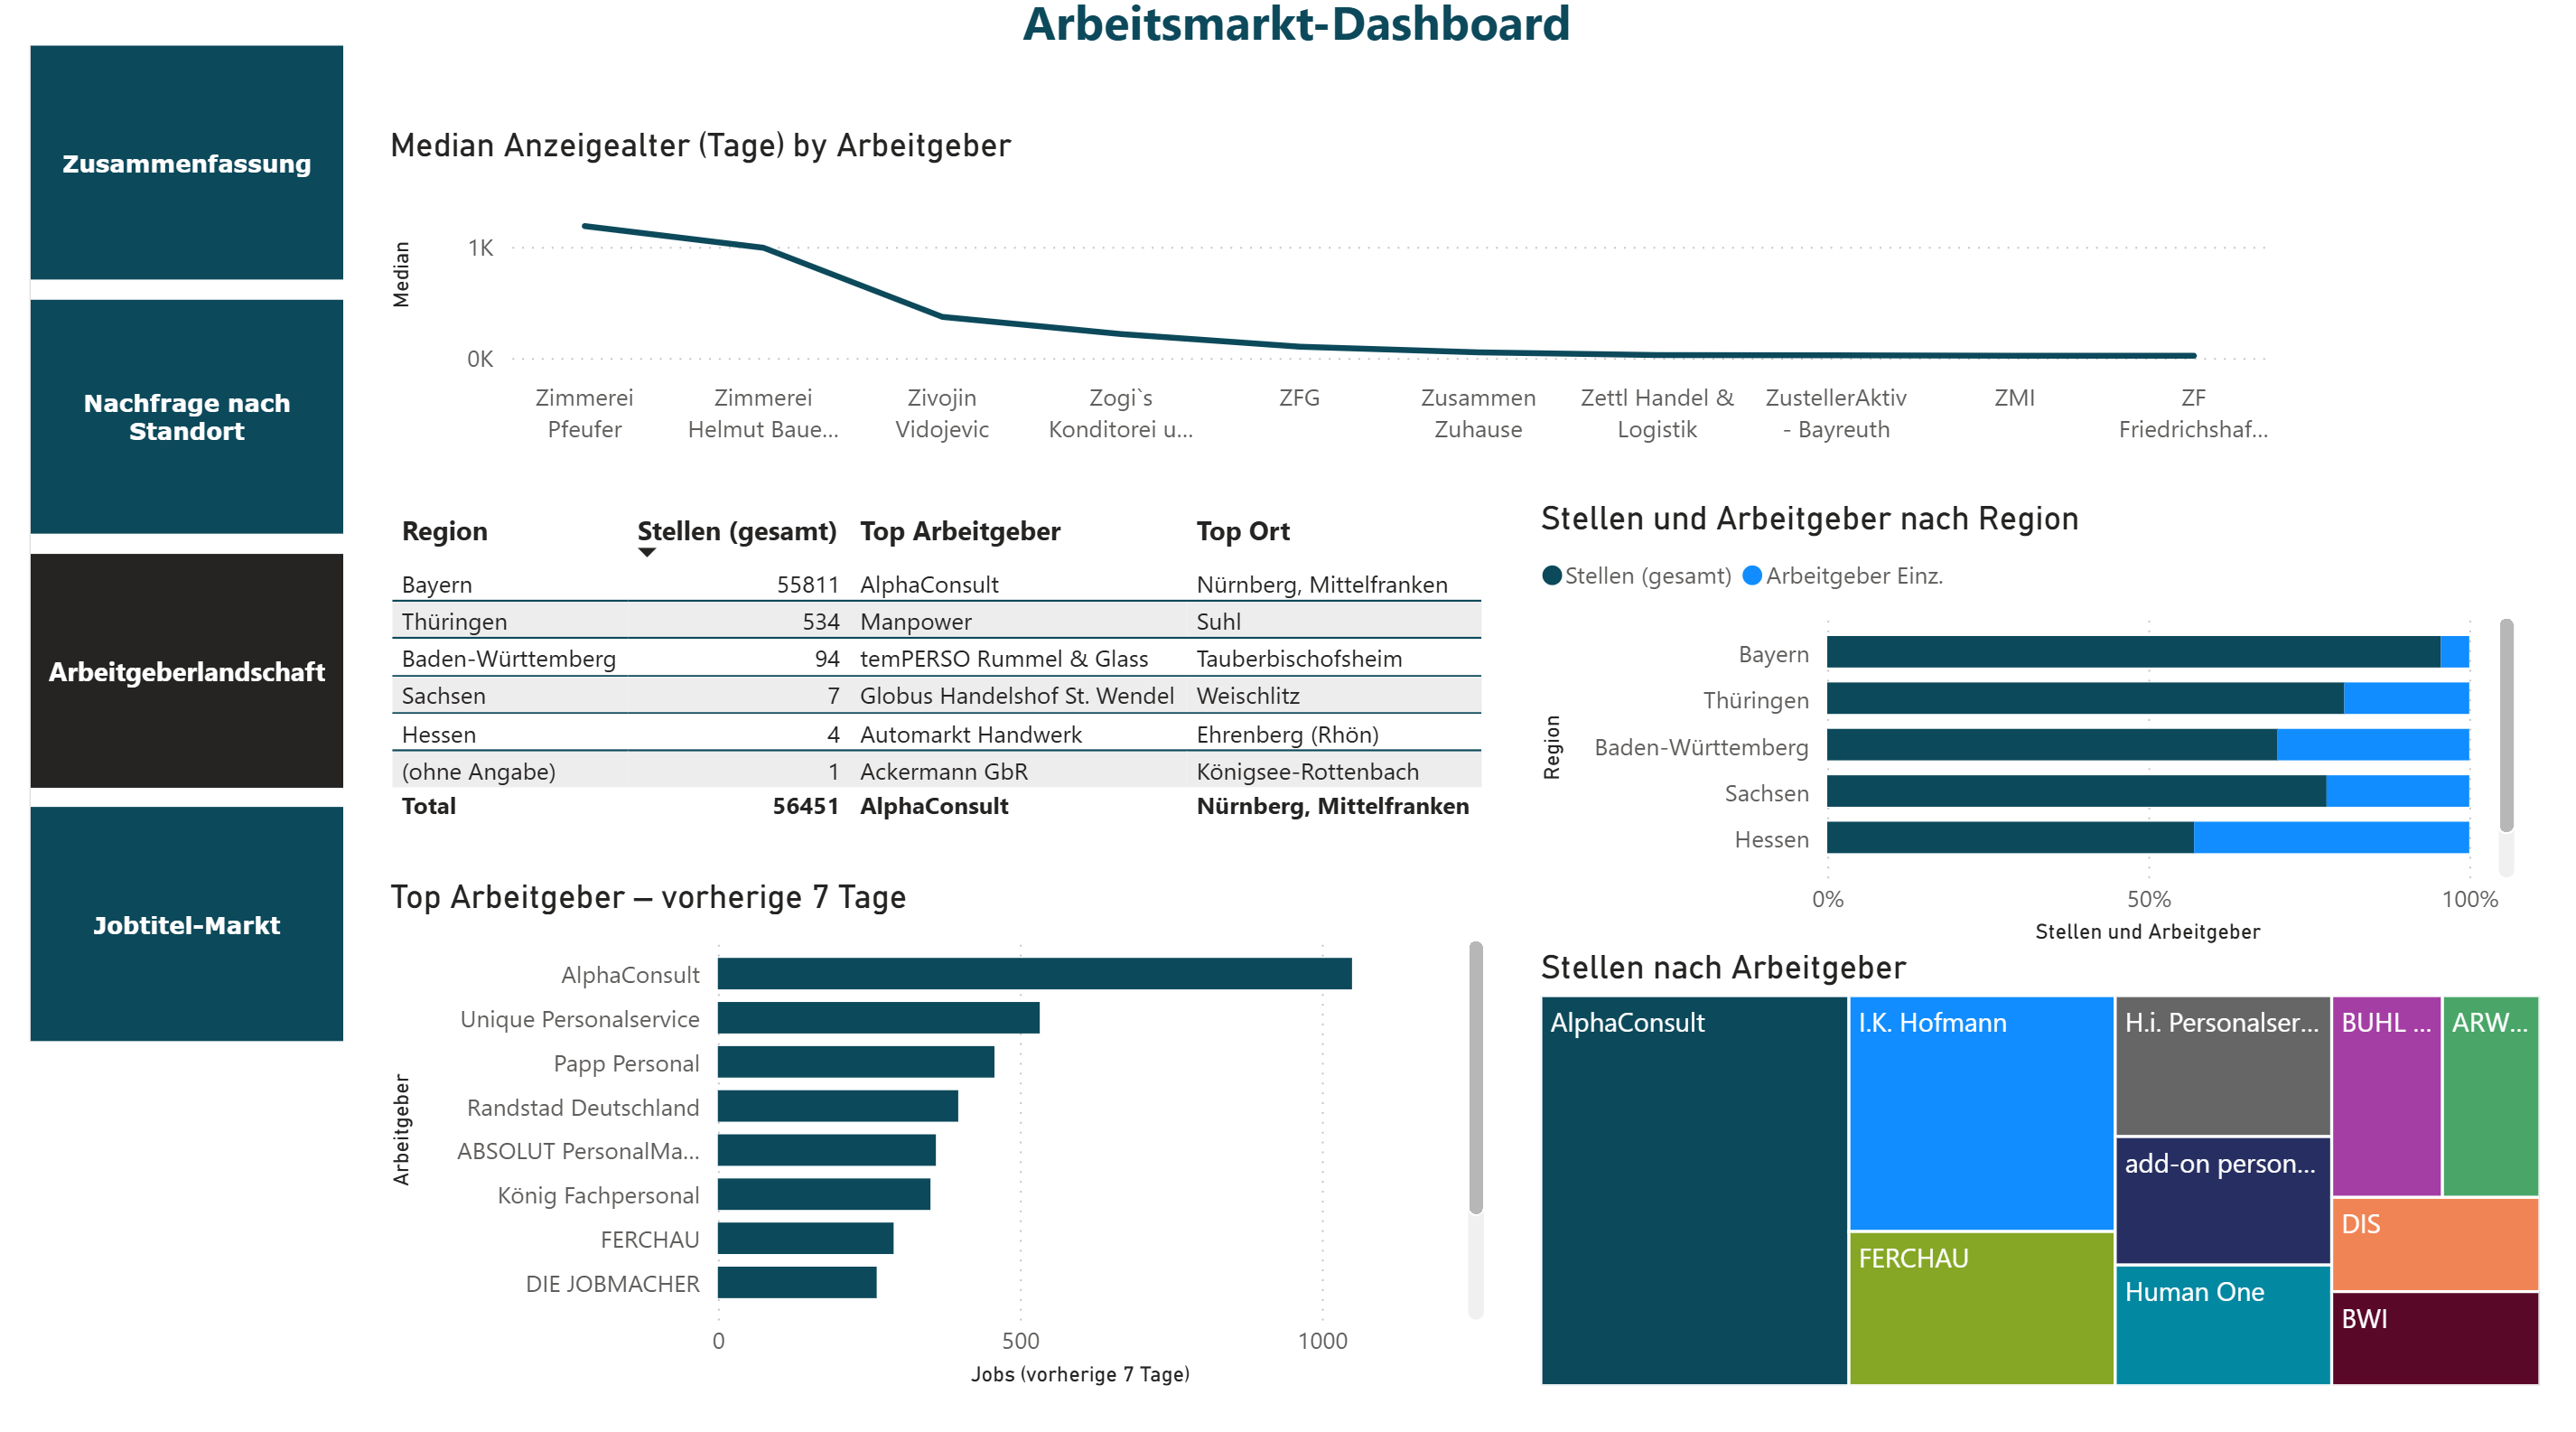

The dashboard page shown, as its layout file describes it:
{"tool":"powerbi","page":{"name":"Arbeitgeberlandschaft","canvas":[1280,720],"ordinal":2},"visuals":[{"type":"pageNavigator","box":[0,33.7,159.9,506.2],"z":0},{"type":"textbox","box":[418.2,0,451.8,41.8],"z":1000},{"type":"treemap","title":"Stellen nach Arbeitgeber","fields":{"Group":["bamberg_jobs_enriched.Arbeitgeber"],"Values":["Date.Stellen (gesamt)"]},"box":[762.1,492.9,517.8,227.1],"z":2000},{"type":"clusteredBarChart","title":"Top Arbeitgeber – vorherige 7 Tage","fields":{"Category":["bamberg_jobs_enriched.Arbeitgeber"],"Y":["Date.Jobs letzte 7 Tage (Prev)"]},"box":[177.2,456.7,566,263.2],"z":3000},{"type":"lineChart","fields":{"Y":["Date.Median Anzeigealter (Tage)"],"Category":["bamberg_jobs_enriched.Arbeitgeber"]},"box":[177.2,74.8,970.2,168.6],"z":4000},{"type":"hundredPercentStackedBarChart","title":"Stellen und Arbeitgeber nach Region","fields":{"Y":["Date.Stellen (gesamt)","bamberg_jobs_enriched.Arbeitgeber Einz."],"Category":["bamberg_jobs_enriched.Region"]},"box":[762.1,264.1,504.9,230.5],"z":5000},{"type":"tableEx","title":"Stellen und Arbeitgeber nach Region","fields":{"Values":["bamberg_jobs_enriched.Region","Date.Stellen (gesamt)","bamberg_jobs_enriched.Top Arbeitgeber","bamberg_jobs_enriched.Top Ort"]},"box":[177.2,264.1,566,191.8],"z":6000}]}

Visuals, with their boxes in screenshot pixels (x1, y1, x2, y2), scaled from the page's 1280x720 canvas onto the 2576x1432 screenshot:
pageNavigator: [x1=0, y1=67, x2=322, y2=1074]
textbox: [x1=842, y1=0, x2=1750, y2=83]
"Stellen nach Arbeitgeber" treemap: [x1=1534, y1=980, x2=2575, y2=1431]
"Top Arbeitgeber – vorherige 7 Tage" clusteredBarChart: [x1=357, y1=908, x2=1496, y2=1431]
lineChart - Date.Median Anzeigealter (Tage) x bamberg_jobs_enriched.Arbeitgeber: [x1=357, y1=149, x2=2310, y2=484]
"Stellen und Arbeitgeber nach Region" hundredPercentStackedBarChart: [x1=1534, y1=525, x2=2550, y2=984]
"Stellen und Arbeitgeber nach Region" tableEx: [x1=357, y1=525, x2=1496, y2=907]
